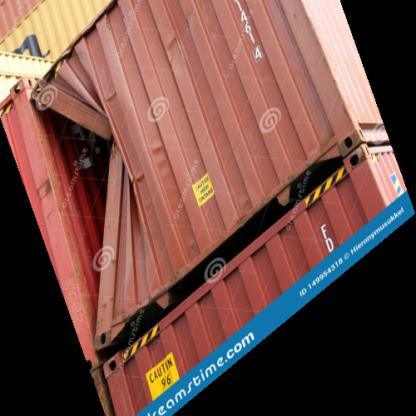Damage: (43, 79, 170, 313)
